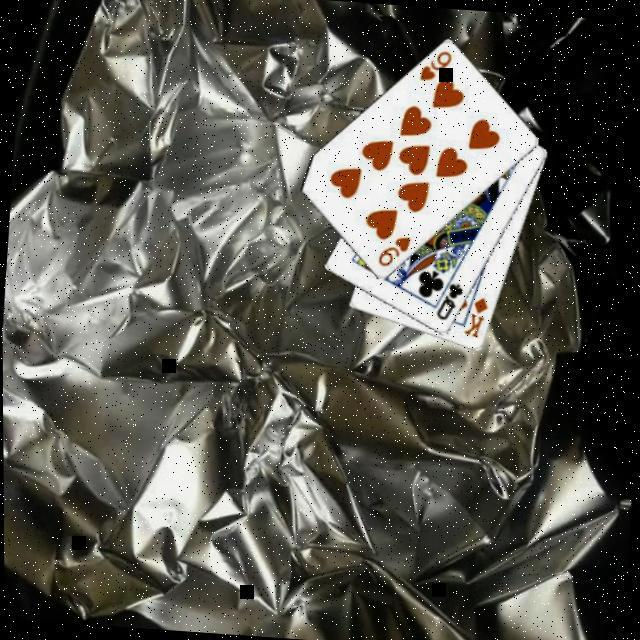9H: (372, 234, 411, 272), (414, 48, 452, 86)
KD: (458, 294, 488, 342)
QC: (429, 280, 464, 326)
